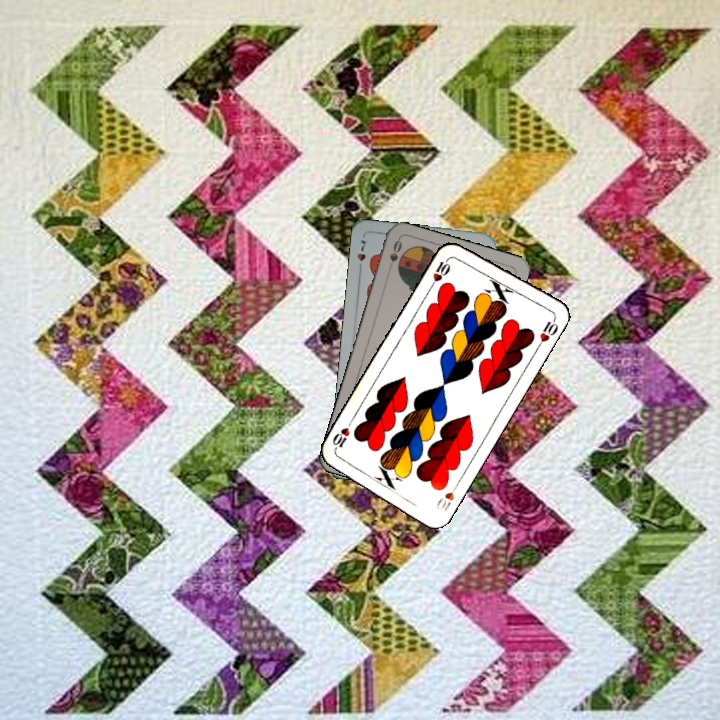H10: (432, 478, 462, 513), (427, 253, 454, 290)
H7: (353, 236, 369, 275)
SO: (383, 236, 404, 276)
